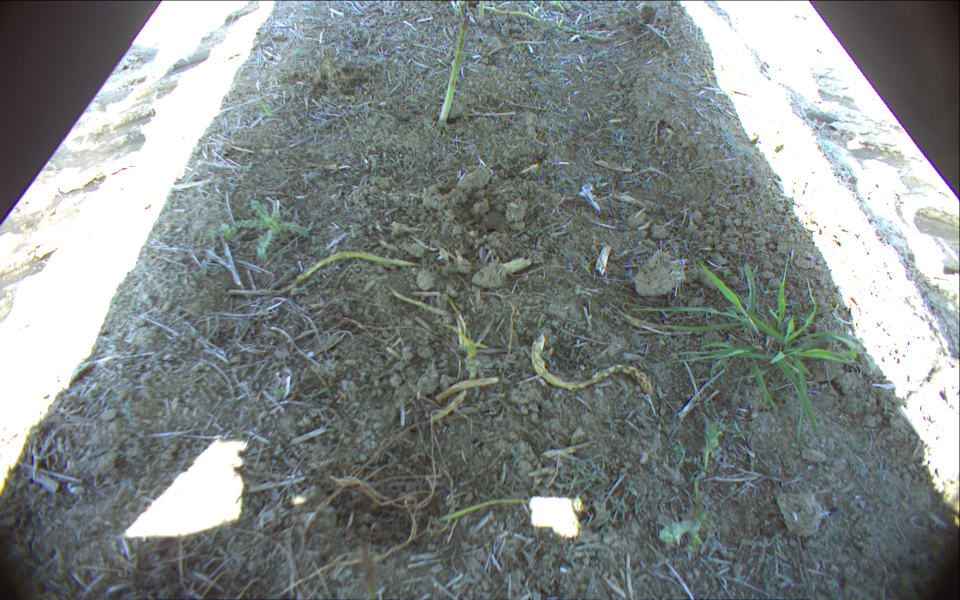aspa: (228, 250, 432, 295), (530, 332, 652, 395), (479, 3, 615, 40), (440, 15, 471, 125), (436, 500, 573, 524), (430, 377, 499, 403), (393, 289, 455, 316), (423, 395, 466, 425), (489, 39, 550, 55), (451, 1, 465, 16), (476, 1, 484, 21)
